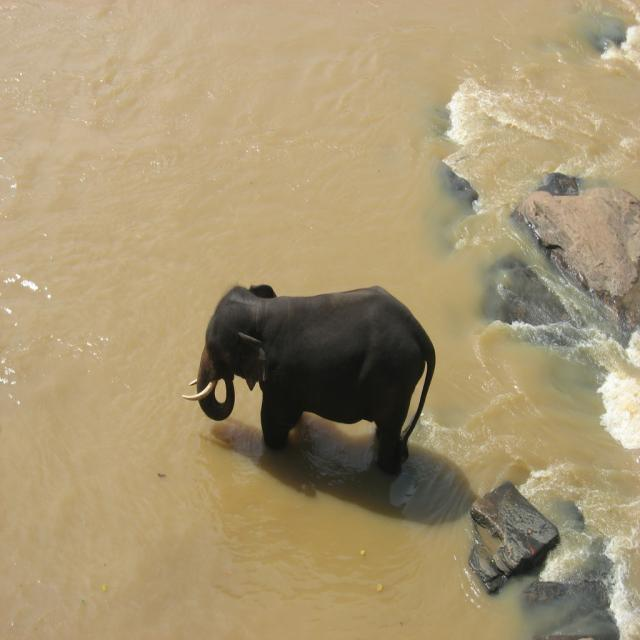elephant: (180, 287, 434, 480)
